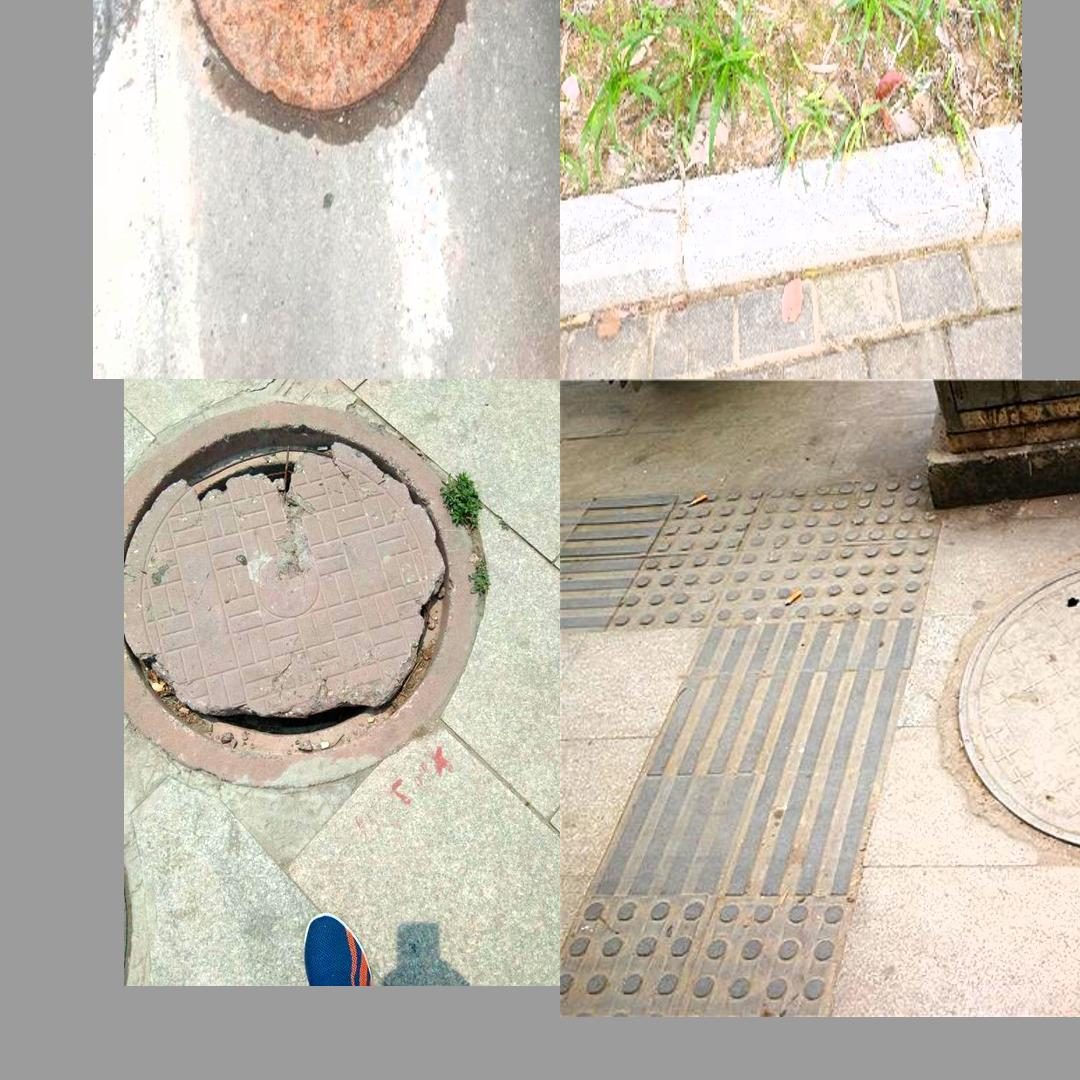broke: (124, 395, 491, 793), (146, 0, 495, 142), (957, 552, 1080, 852)
